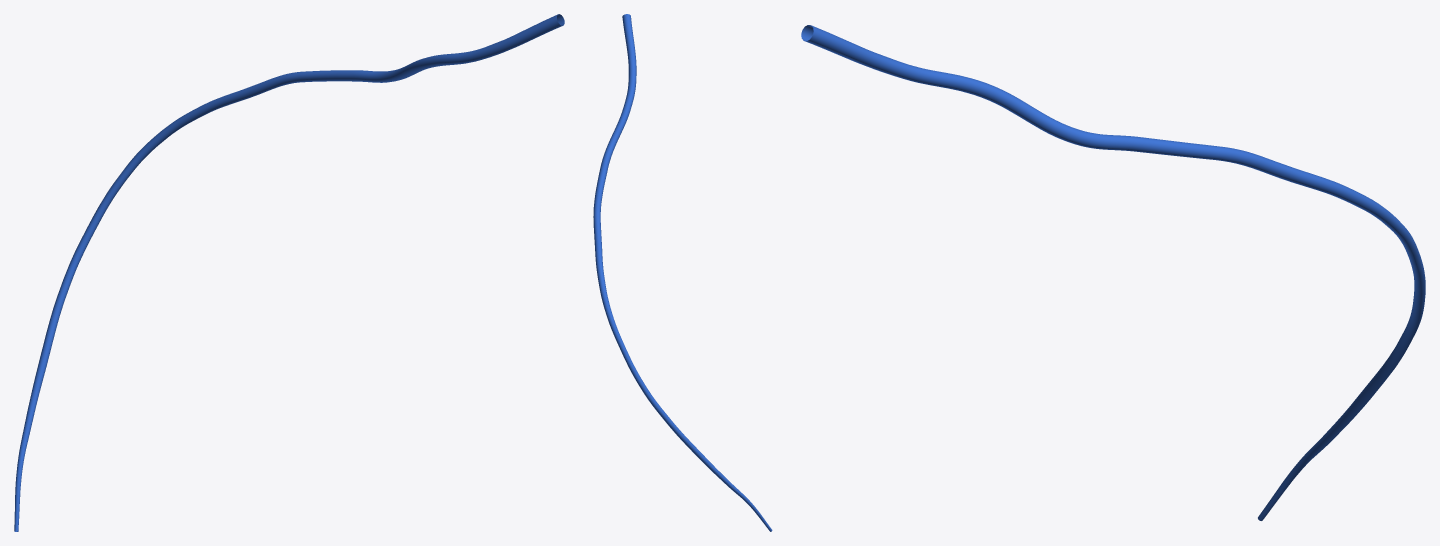
File: circulatorio-right-subcostal-vein.glb
3 views of the same model, side by side, from view 1: azimuth 30°, elevation 25°; view 2: azimuth 150°, elevation 25°; view 3: azimuth 270°, elevation 25° (orthographic). The views are drawn at different scales.
Parts seen in each view (by area): view 1: Right subcostal vein; view 2: Right subcostal vein; view 3: Right subcostal vein.
Boxes of the visible parts, x1,y1,x2,y2 form: Right subcostal vein: [14, 14, 564, 531]; Right subcostal vein: [593, 14, 772, 531]; Right subcostal vein: [801, 25, 1425, 520].
Size of the model in its own units: 0.0628 by 0.0853 by 0.0647.
